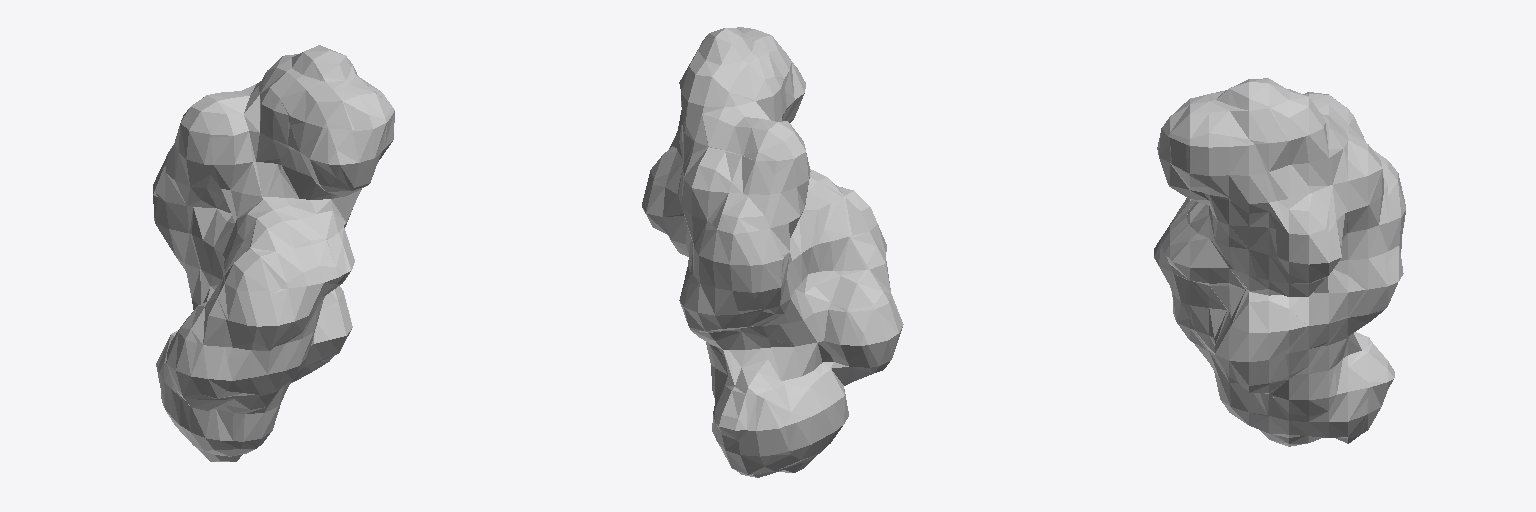
Rendered from 1t11_cms.obj.
3 views of the same model, side by side, from view 1: azimuth 30°, elevation 25°; view 2: azimuth 150°, elevation 25°; view 3: azimuth 270°, elevation 25° (orthographic).
Bounding box in the file's own units: 73.37 × 134 × 76.